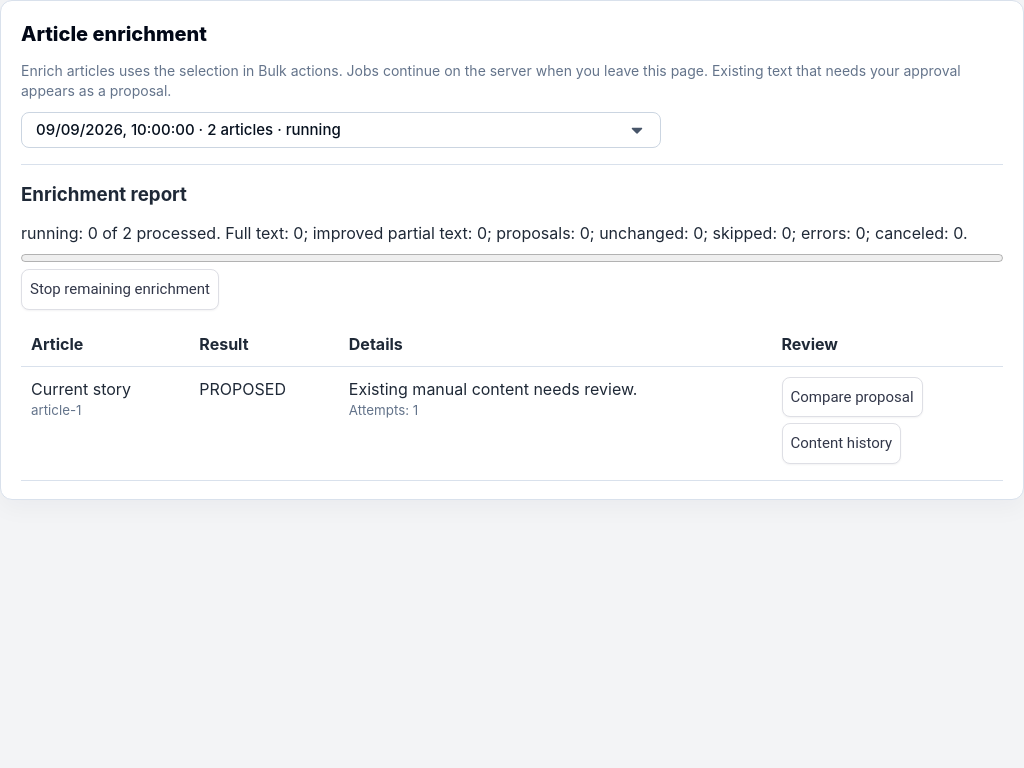
Test: persistent article enrichment › compares retrieved and saved text, applies only after an explicit click, and preserves success if refresh fails
The width and height of the screenshot is (1024, 768).
Expected: the element with class "raw_news_bulk__results" is shown, [21,322,1003,481]
Click the button "Compare proposal": coordinates (852, 397) [782,377,923,417]
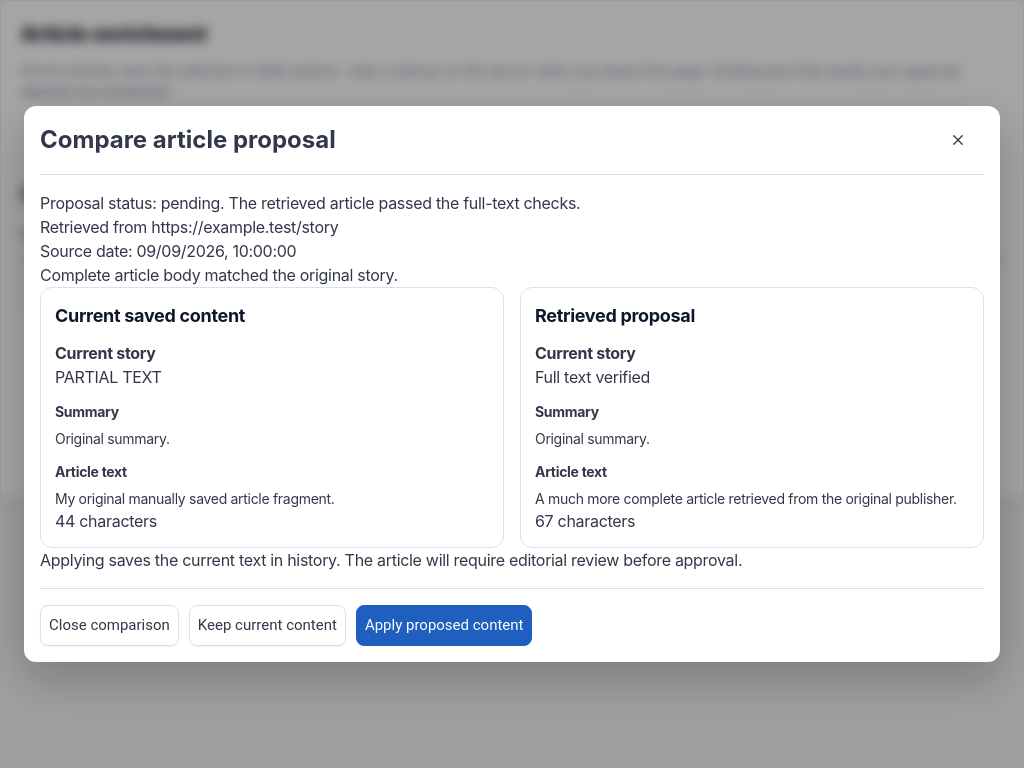
Now the button "Apply proposed content" is enabled
Now the text "My original manually saved article fragment." is shown, box [55,490,334,507]
Now the text "A much more complete article retrieved" is shown, box [535,490,957,507]
Click the button "Apply proposed content": coordinates (444, 626) [356,605,532,646]
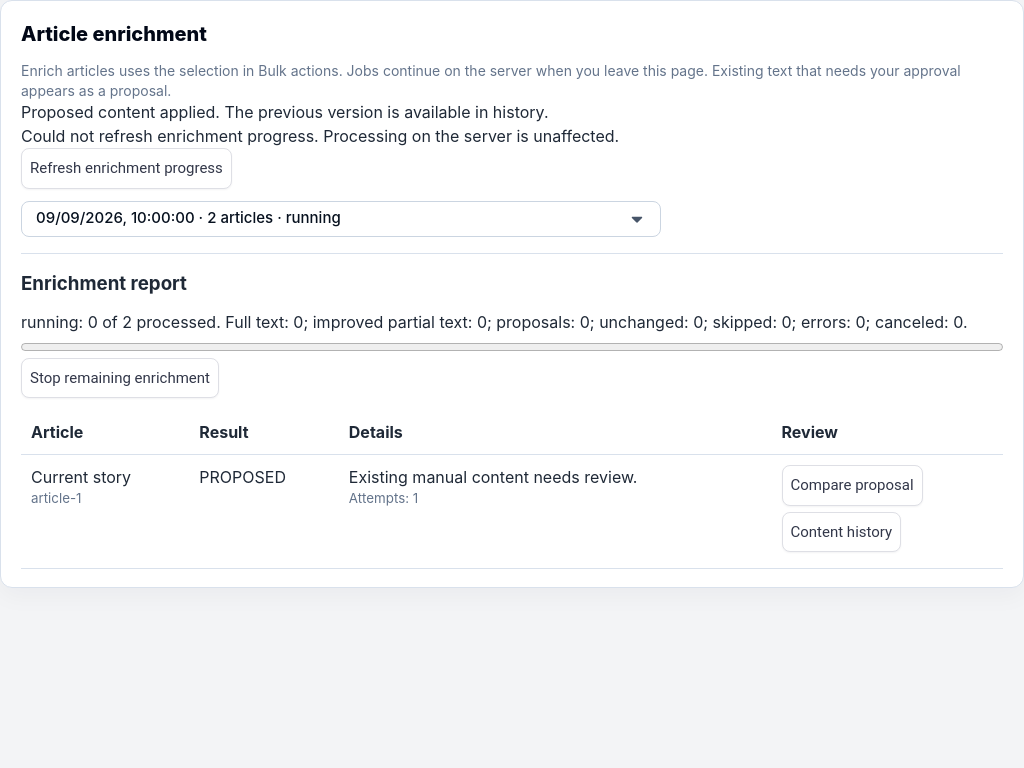
Now the text "Proposed content applied" is shown, box [21,102,548,122]
Now the dialog is gone
Now the text "Could not refresh enrichment progress" is shown, box [21,126,619,146]
